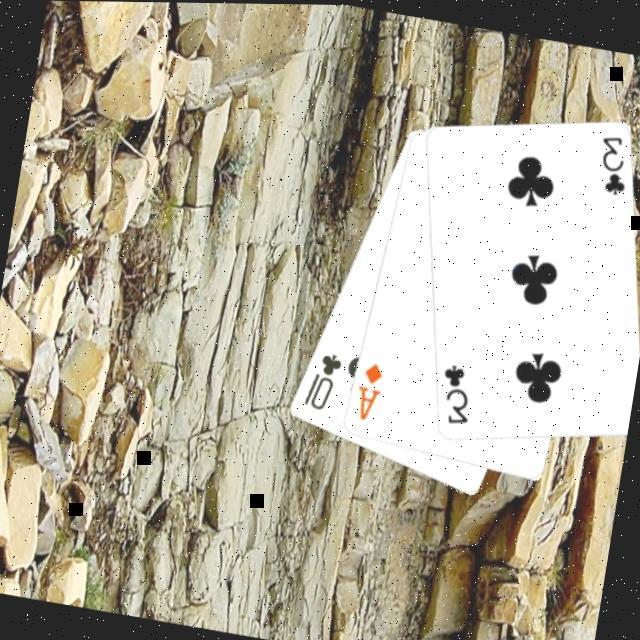10C: (299, 348, 347, 418)
3C: (432, 360, 480, 431), (591, 130, 637, 202)
AD: (350, 358, 388, 426)
